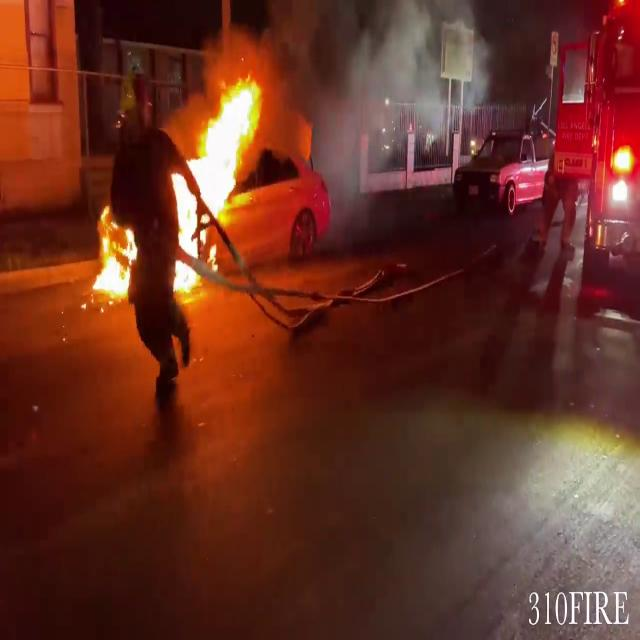Fire: (165, 72, 268, 292), (80, 202, 141, 306)
Smoke: (254, 0, 488, 148)
